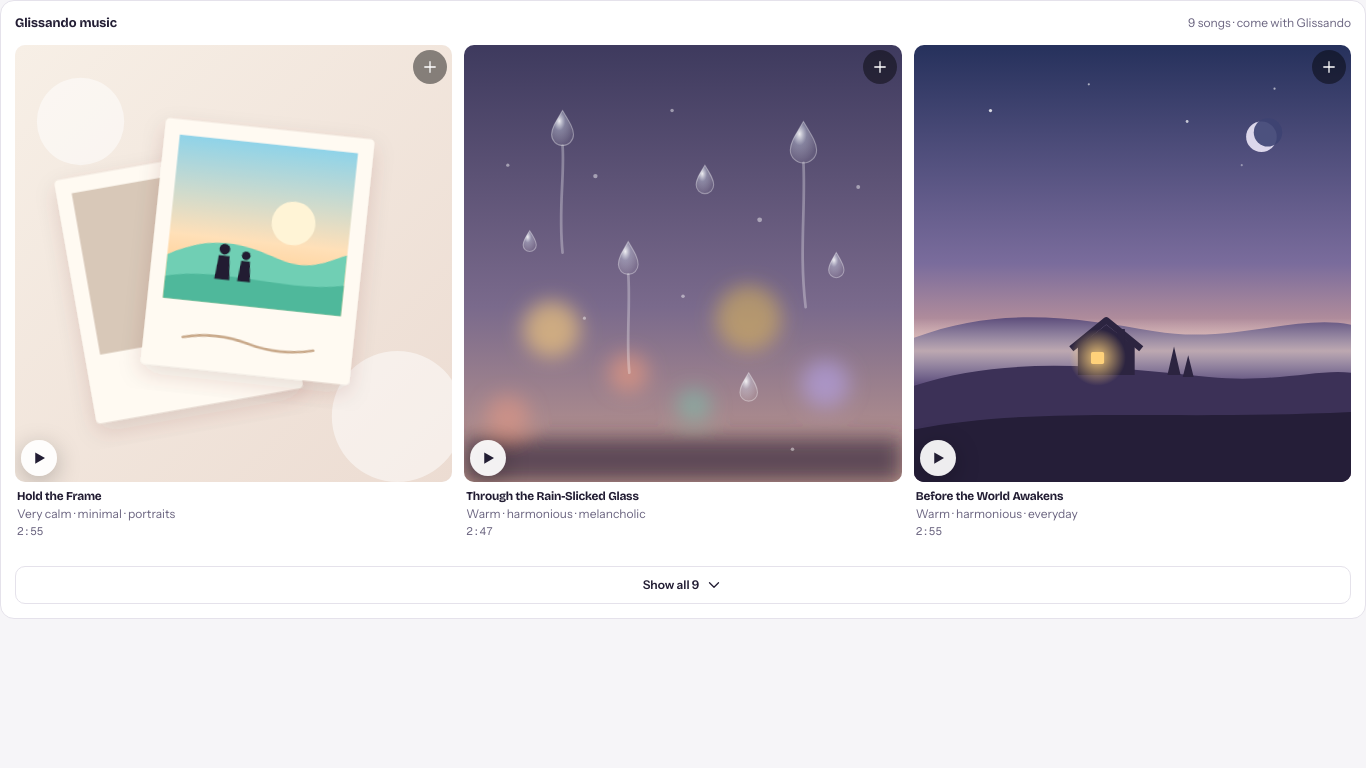
SampleMusicGrid, folded by default › stops a playing hidden card's preview when the block folds back over it
What coordinates should you click on to do the following:
click the button with class "toggle"
I would click on:
 (683, 585)
Its box is [15,566,1351,604].
(page scrolled)
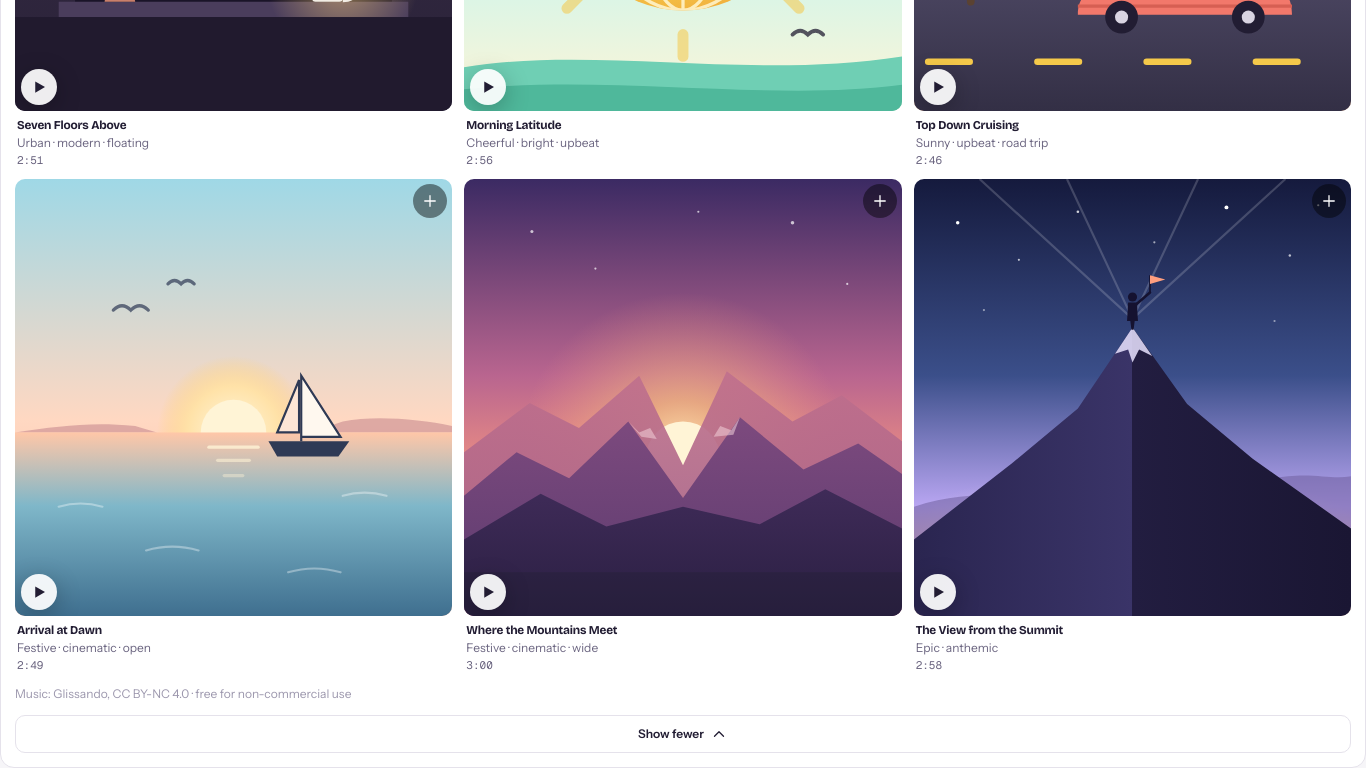
What coordinates should you click on to do the following:
click the button named "Play Where the Mountains Meet"
I would click on:
 (488, 592)
Its box is [470,574,506,610].
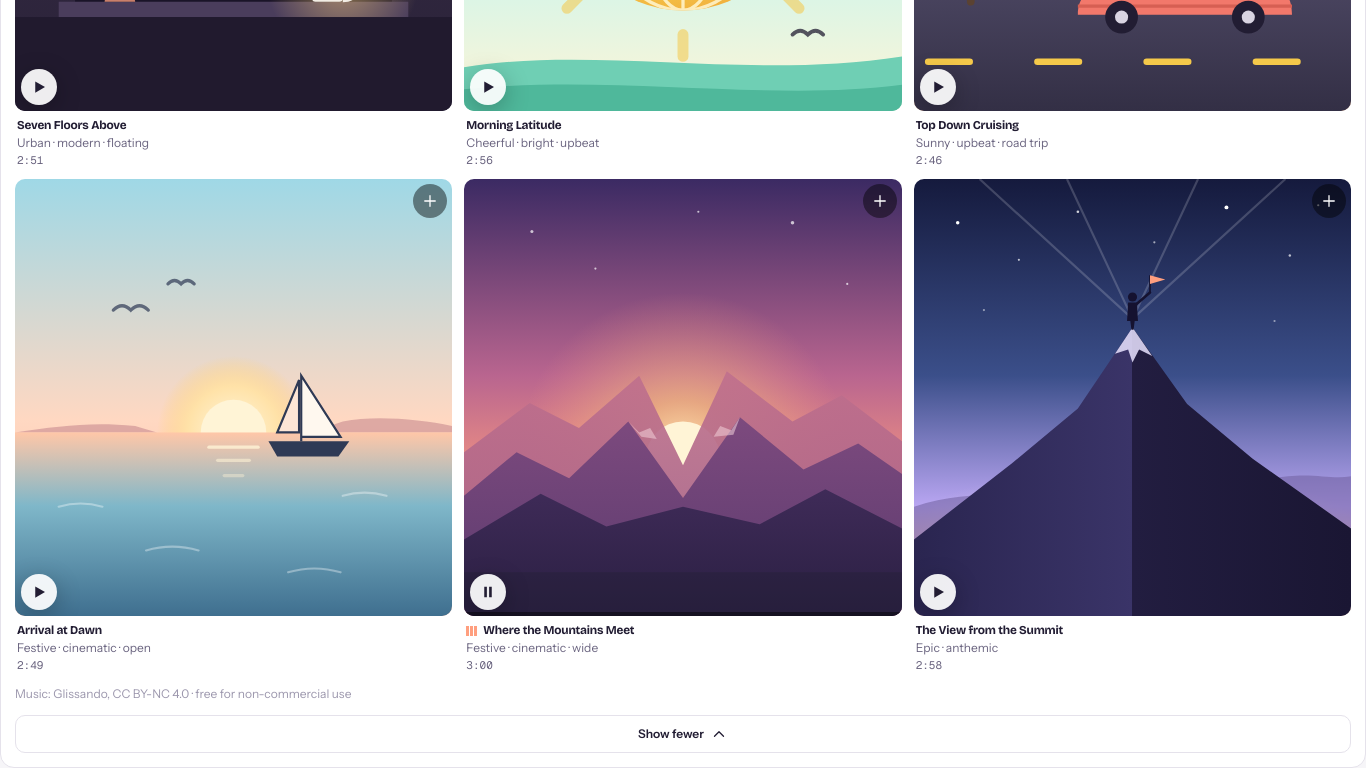
Check: the element with class "bars" is shown, box [466,626,477,636]
What coordinates should you click on to do the following:
click the button with class "toggle"
I would click on:
 (683, 734)
Its box is [15,715,1351,753].
(page scrolled)
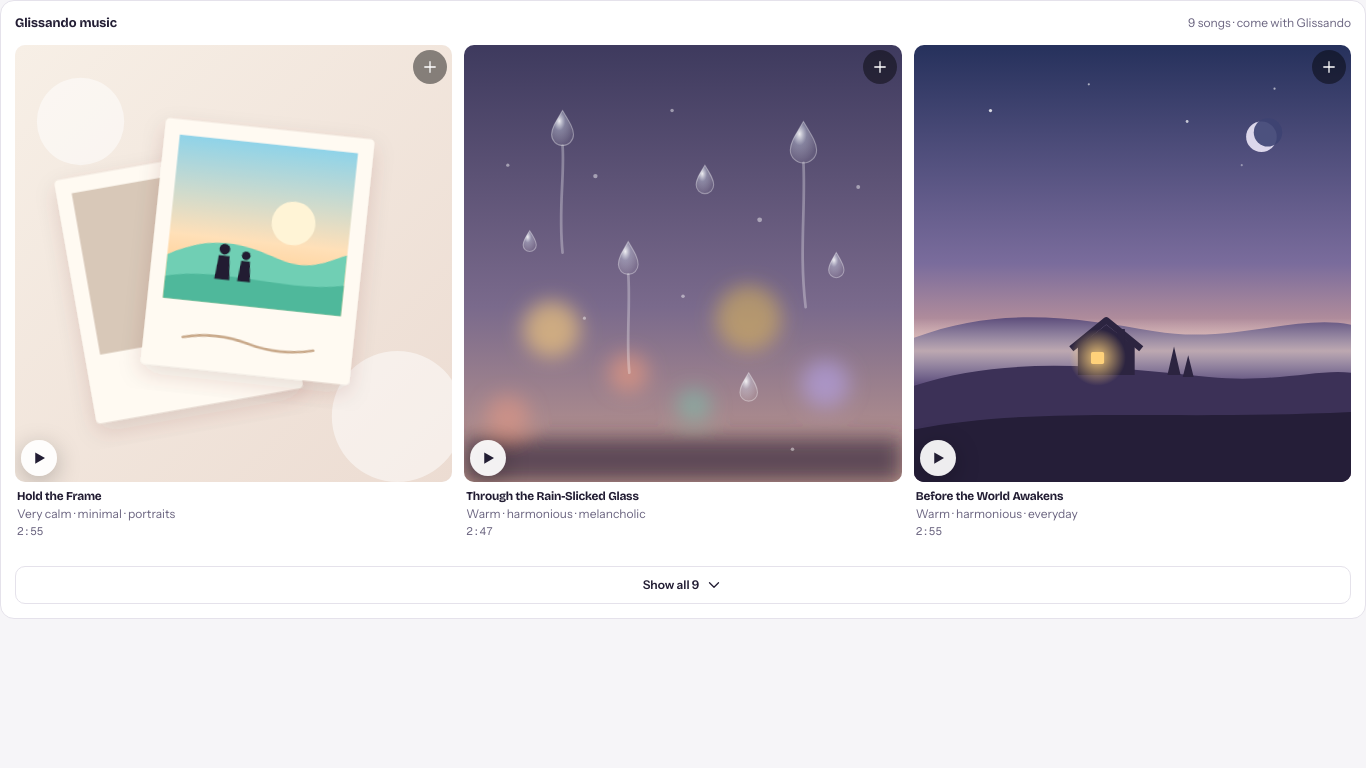
Check: the button with class "toggle" is collapsed, box [15,566,1351,604]
Check: the element with class "bars" is gone
